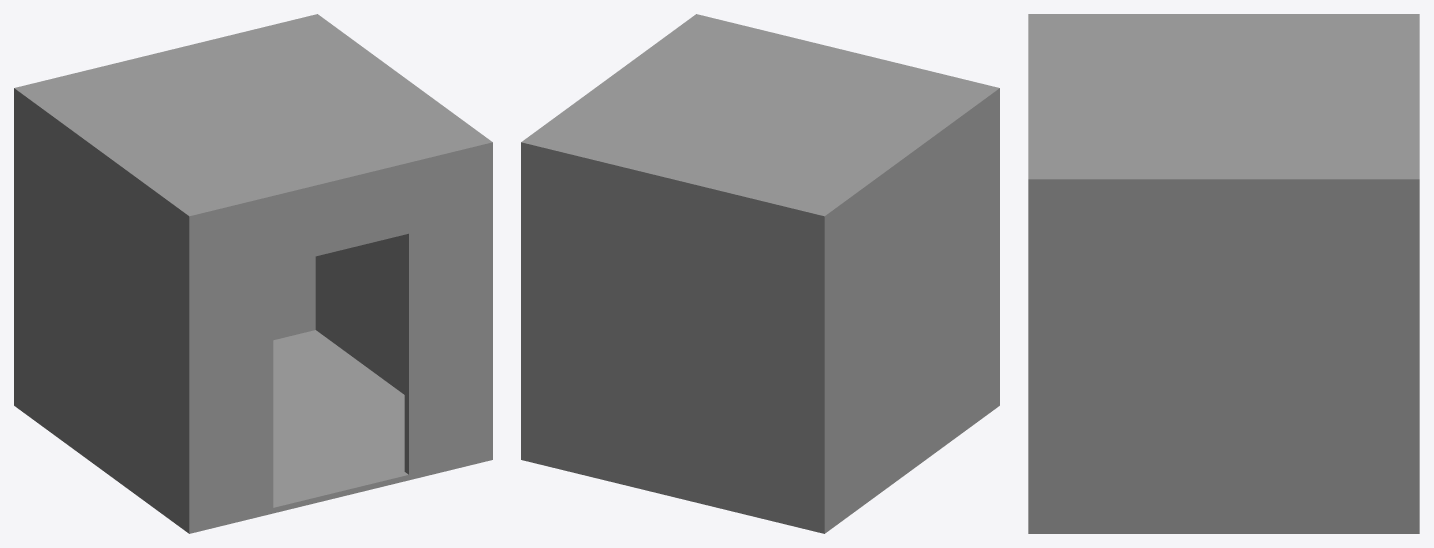
The model's file is Tower_Brick_Door_1.fbx.
3 views of the same model, side by side, from view 1: azimuth 30°, elevation 25°; view 2: azimuth 150°, elevation 25°; view 3: azimuth 270°, elevation 25° (orthographic). The views are drawn at different scales.
Visible parts, largest first — view 1: Tower_Door_1_Brick; view 2: Tower_Door_1_Brick; view 3: Tower_Door_1_Brick.
Boxes of the visible parts, bbox=[...] form: Tower_Door_1_Brick: bbox=[14, 14, 492, 533]; Tower_Door_1_Brick: bbox=[521, 14, 999, 533]; Tower_Door_1_Brick: bbox=[1028, 14, 1419, 533].
Bounding box in the file's own units: 2 × 2 × 2.
